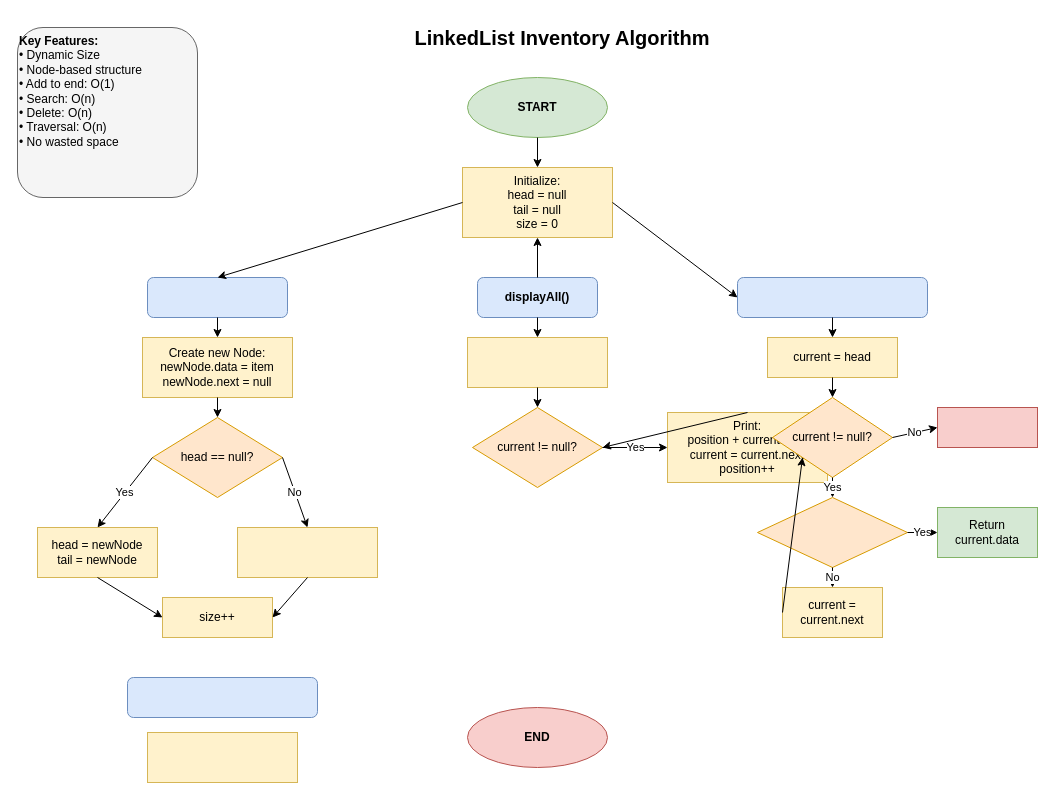
Image size: 1055x800. Some labels were removed from this diagram. The shapes that lost their labels are listed below. From the top down, each one's centre as x and y in pixels, then its label:
At (x=217, y=297): "addToEnd(item)".
At (x=832, y=297): "searchByEngineNumber()".
At (x=537, y=362): "current = head position = 1".
At (x=987, y=427): "Return null".
At (x=307, y=552): "tail.next = newNode tail = newNode".
At (x=832, y=532): "Engine number matches?".
At (x=222, y=697): "deleteByEngineNumber()".
At (x=222, y=757): "current = head previous = null".
